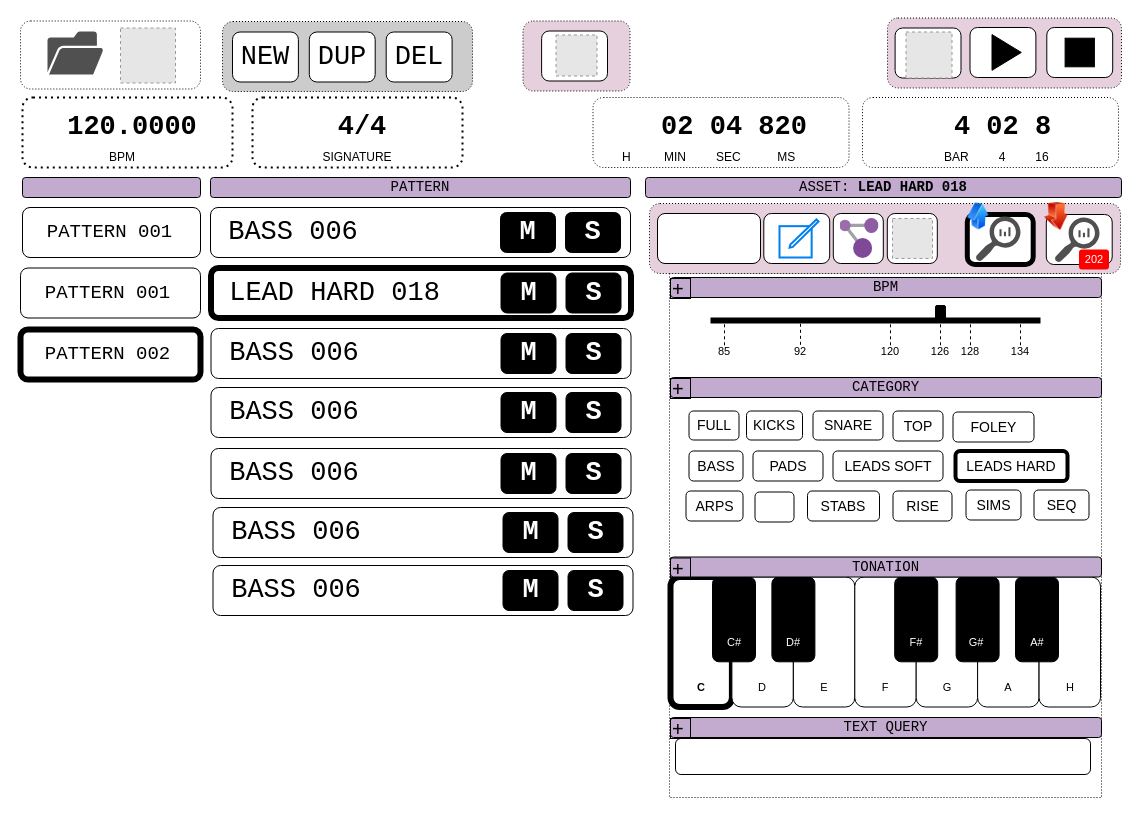
The diagram is 1139 pixels wide and 815 high, and some of its shapes have lost their labels. Grey dashed boxes stand in for pictures. The box of each missing label's shape, as (x1, y1, x2, y2) in pixels:
ASSET: (656, 212, 760, 264)
FX: (754, 491, 794, 522)
SEQUENCE: (22, 176, 200, 198)
